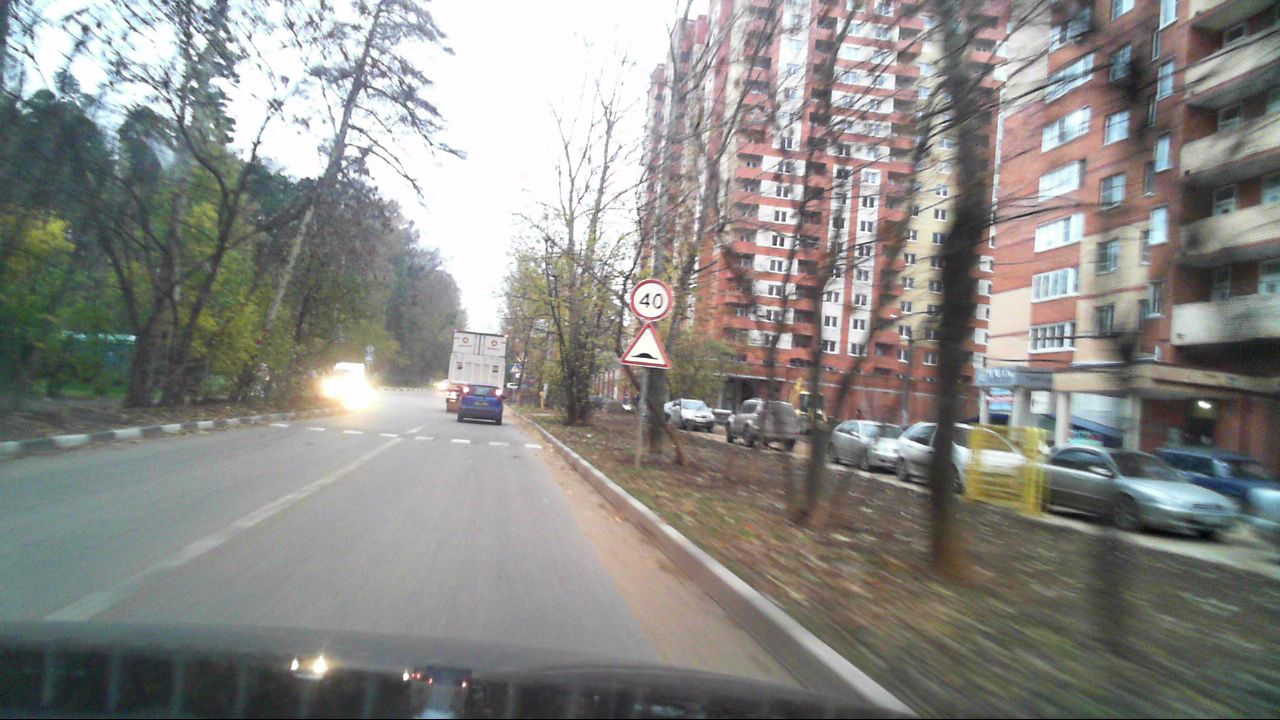speed_warning_40: (629, 278, 672, 322)
